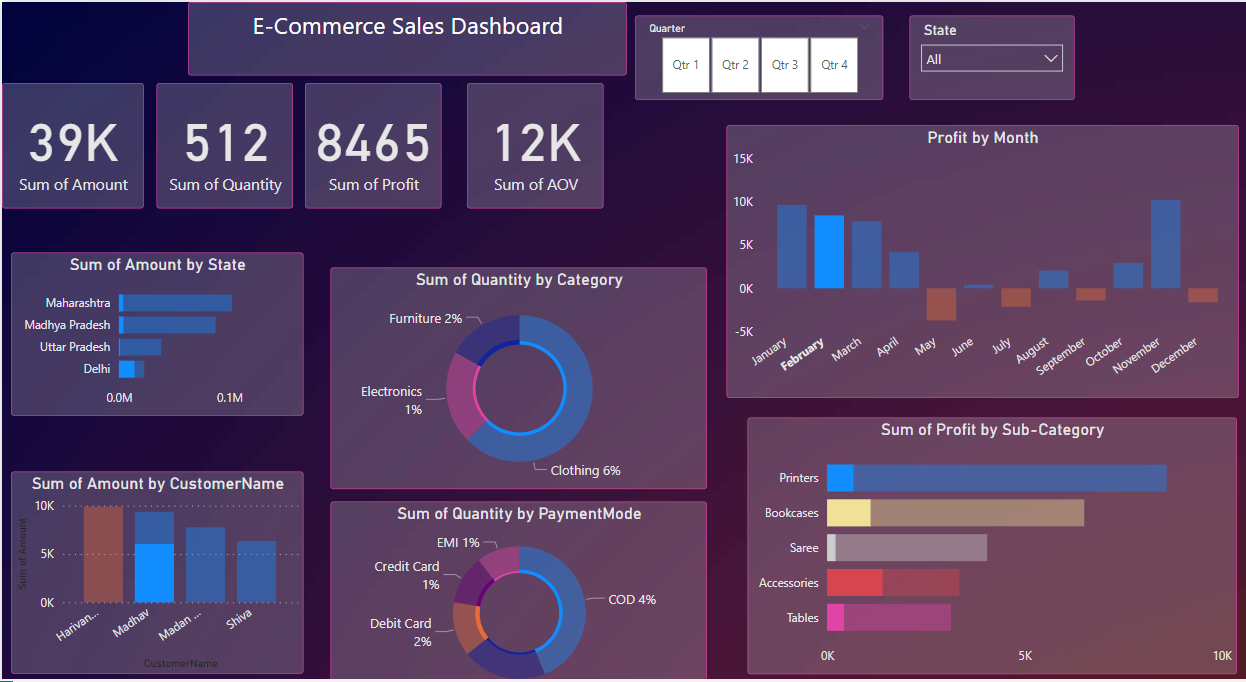

This screenshot's page, from the dashboard's own definition file:
{"tool":"powerbi","page":{"name":"Page 1","canvas":[1280,720],"ordinal":0},"visuals":[{"type":"textbox","box":[190.9,0,449.8,75.6],"z":0},{"type":"columnChart","title":"Profit by Month","fields":{"Category":["Orders.Order Date.Variation.Date Hierarchy.Month"],"Y":["Details.Profit"]},"box":[743.3,126.7,525,280],"z":1000},{"type":"barChart","fields":{"Category":["Details.Sub-Category"],"Y":["Details.Profit"]},"box":[765,426.7,501.7,263.3],"z":2000},{"type":"donutChart","fields":{"Category":["Details.Category"],"Y":["Details.Quantity"]},"box":[337.5,272.5,386.2,227.5],"z":3000},{"type":"donutChart","fields":{"Y":["Details.Quantity"],"Category":["Details.PaymentMode"]},"box":[337.5,512.5,386.2,207.5],"z":4000},{"type":"card","fields":{"Values":["Details.Amount"]},"box":[0,83.8,145,128.8],"z":5000},{"type":"card","fields":{"Values":["Details.Quantity"]},"box":[158.8,83.8,140,128.8],"z":6000},{"type":"card","fields":{"Values":["Details.Profit"]},"box":[311.2,83.8,140,128.8],"z":7000},{"type":"card","fields":{"Values":["Details.AOV"]},"box":[476.2,83.8,140,128.8],"z":8000},{"type":"barChart","fields":{"Y":["Details.Amount"],"Category":["Orders.State"]},"box":[8.8,257.5,300,167.5],"z":9000},{"type":"columnChart","fields":{"Category":["Orders.CustomerName"],"Y":["Details.Amount"]},"box":[8.8,481.2,300,207.5],"z":10000},{"type":"slicer","fields":{"Values":["Orders.Order Date.Variation.Date Hierarchy.Quarter"]},"box":[649.1,14.5,254.5,86.4],"z":10001},{"type":"slicer","fields":{"Values":["Orders.State"]},"box":[930,14.5,169.1,86.4],"z":10002}]}

Visuals, with their boxes in screenshot pixels (x1, y1, x2, y2), scaled from the page's 1280x720 canvas onto the 1246x682 screenshot:
textbox: Rect(186, 0, 624, 72)
"Profit by Month" columnChart: Rect(724, 120, 1235, 385)
barChart - Details.Sub-Category x Details.Profit: Rect(745, 404, 1233, 654)
donutChart - Details.Category x Details.Quantity: Rect(329, 258, 704, 474)
donutChart - Details.Quantity x Details.PaymentMode: Rect(329, 485, 704, 681)
card - Details.Amount: Rect(0, 79, 141, 201)
card - Details.Quantity: Rect(155, 79, 291, 201)
card - Details.Profit: Rect(303, 79, 439, 201)
card - Details.AOV: Rect(464, 79, 600, 201)
barChart - Details.Amount x Orders.State: Rect(9, 244, 301, 403)
columnChart - Orders.CustomerName x Details.Amount: Rect(9, 456, 301, 652)
slicer - Orders.Order Date.Variation.Date Hierarchy.Quarter: Rect(632, 14, 880, 96)
slicer - Orders.State: Rect(905, 14, 1070, 96)
